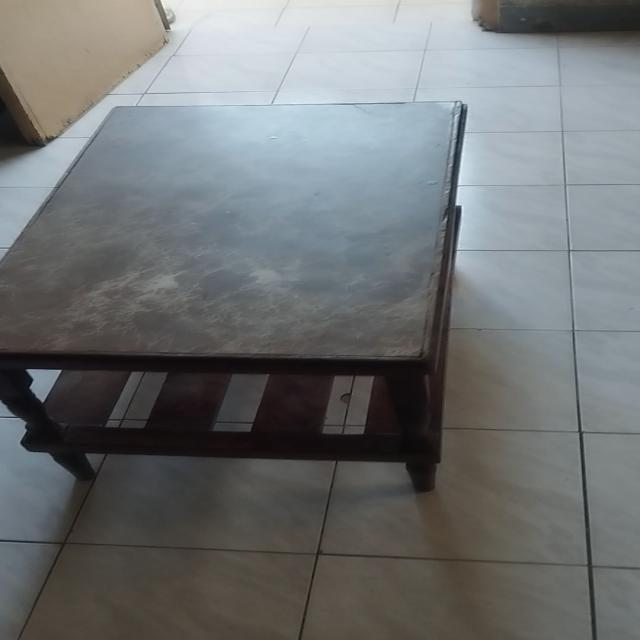table: (6, 102, 468, 506)
